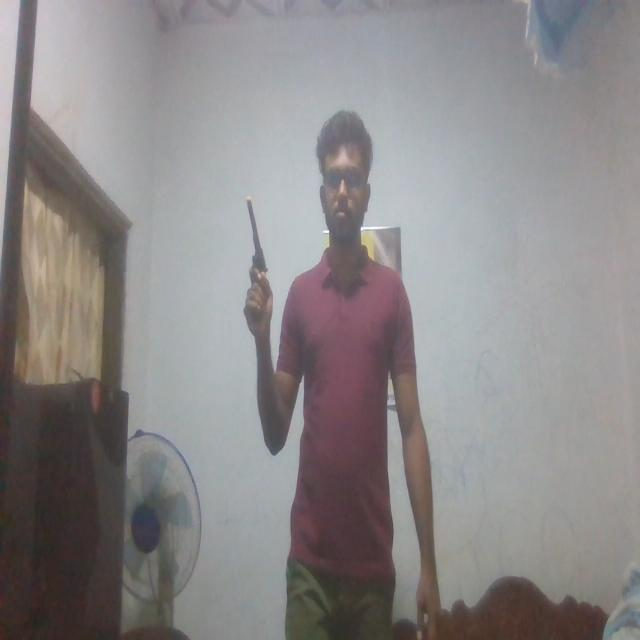Gun_Holder: (239, 199, 279, 317)
Person: (248, 112, 442, 640)
